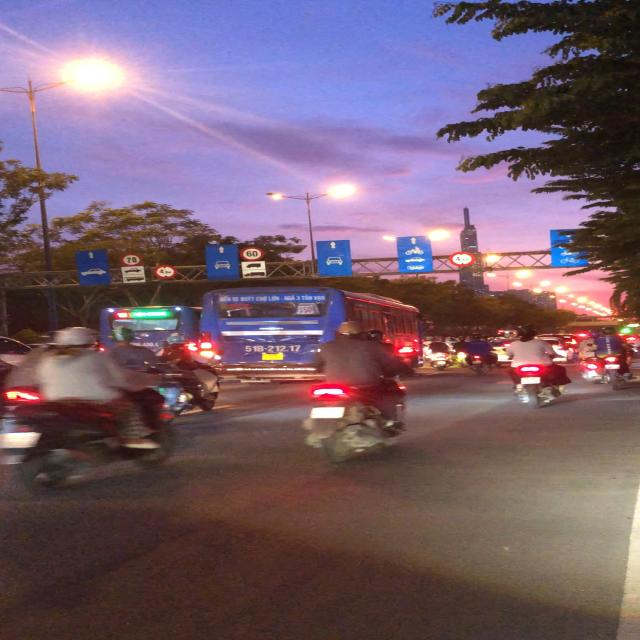Bien bao han che chieu cao: (444, 251, 474, 269), (149, 263, 178, 279)
Bien bao toc do toi da cho phep: (233, 245, 266, 261), (115, 252, 145, 267)
